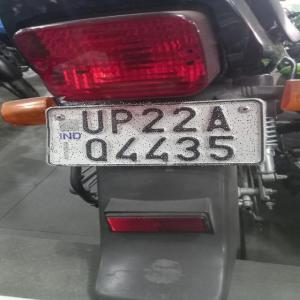Plate: (52, 100, 259, 166)
